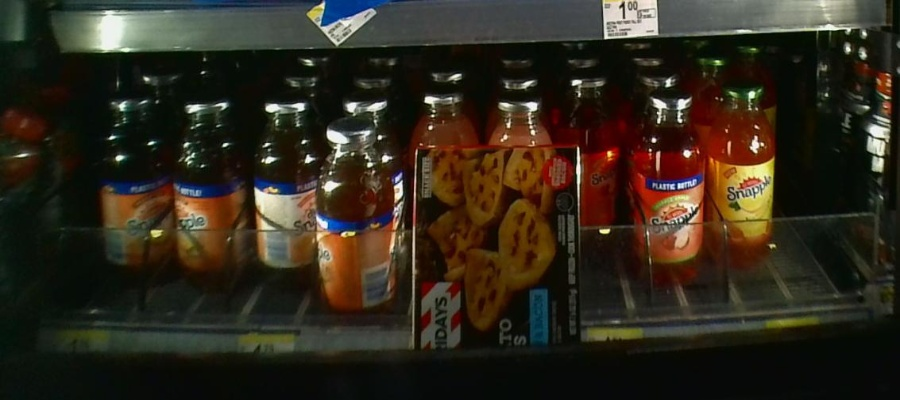bottle: (316, 117, 399, 316), (627, 86, 704, 277), (172, 91, 247, 278), (96, 92, 169, 270), (709, 80, 780, 259), (251, 98, 316, 284), (577, 79, 620, 235)
